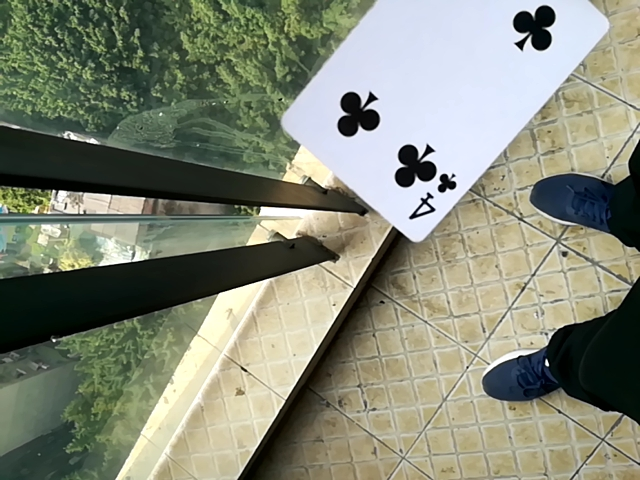mh 4: (281, 0, 613, 248)
